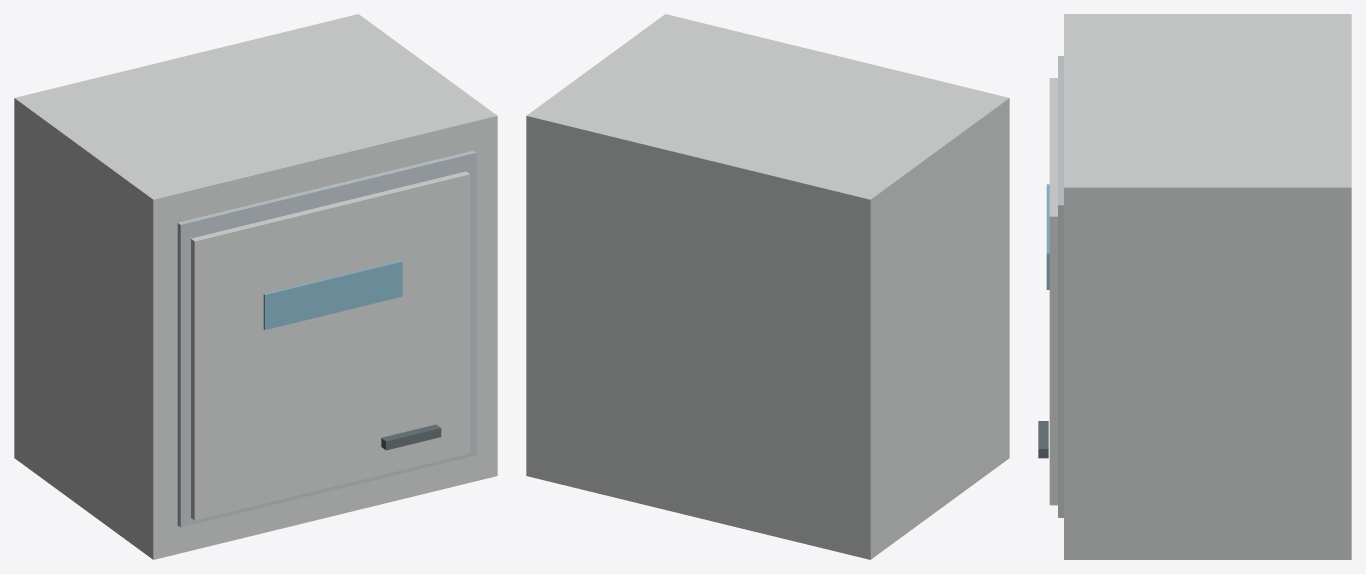
File: ups_unit.glb
3 views of the same model, side by side, from view 1: azimuth 30°, elevation 25°; view 2: azimuth 150°, elevation 25°; view 3: azimuth 270°, elevation 25° (orthographic). The views are drawn at different scales.
Size of the model in its own units: 1 by 1 by 0.7625.
